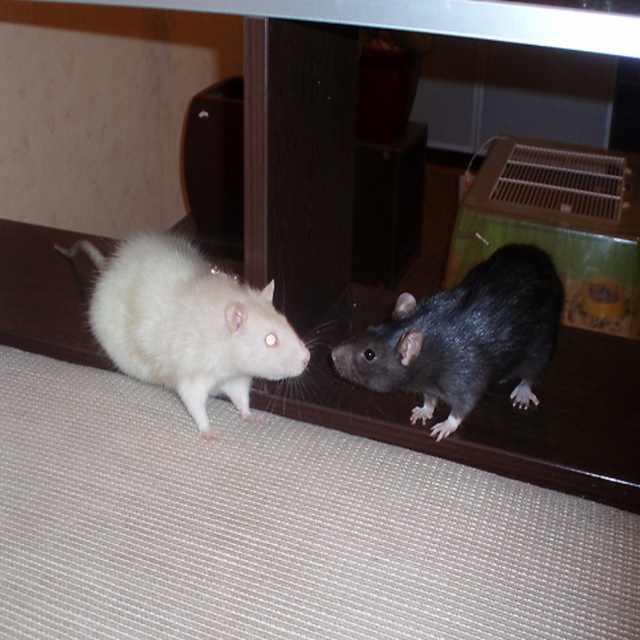Hamster: (49, 223, 338, 448), (329, 237, 571, 449)
